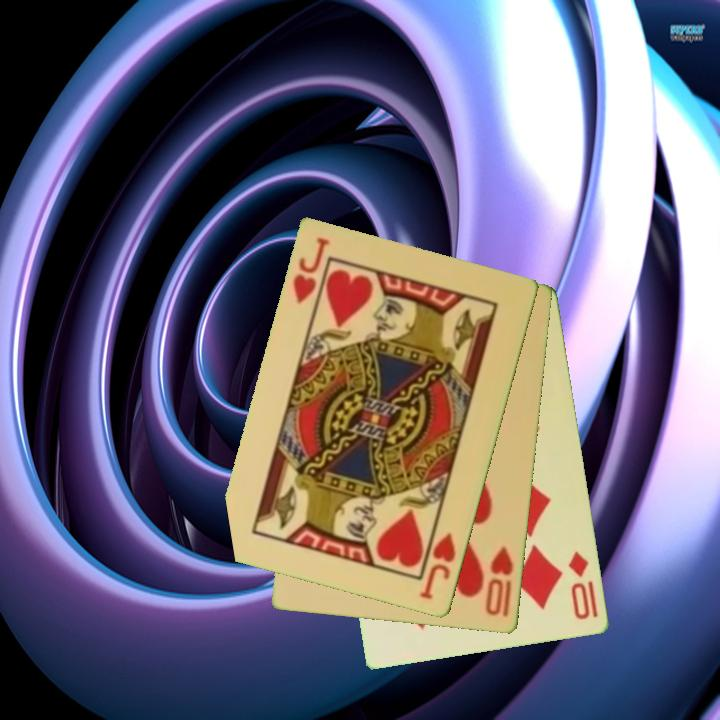10d: (565, 548, 593, 623)
10h: (482, 543, 517, 620)
Jh: (416, 520, 460, 603), (289, 234, 334, 308)
